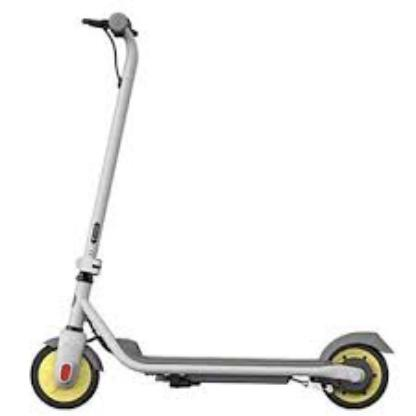bike: (28, 12, 395, 413)
